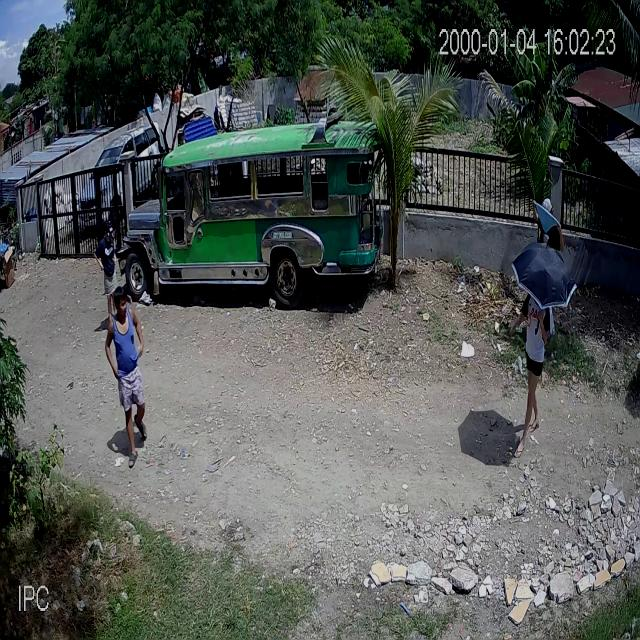standing: (96, 221, 123, 339)
walking: (107, 284, 148, 470), (511, 294, 556, 460), (536, 196, 567, 260)
